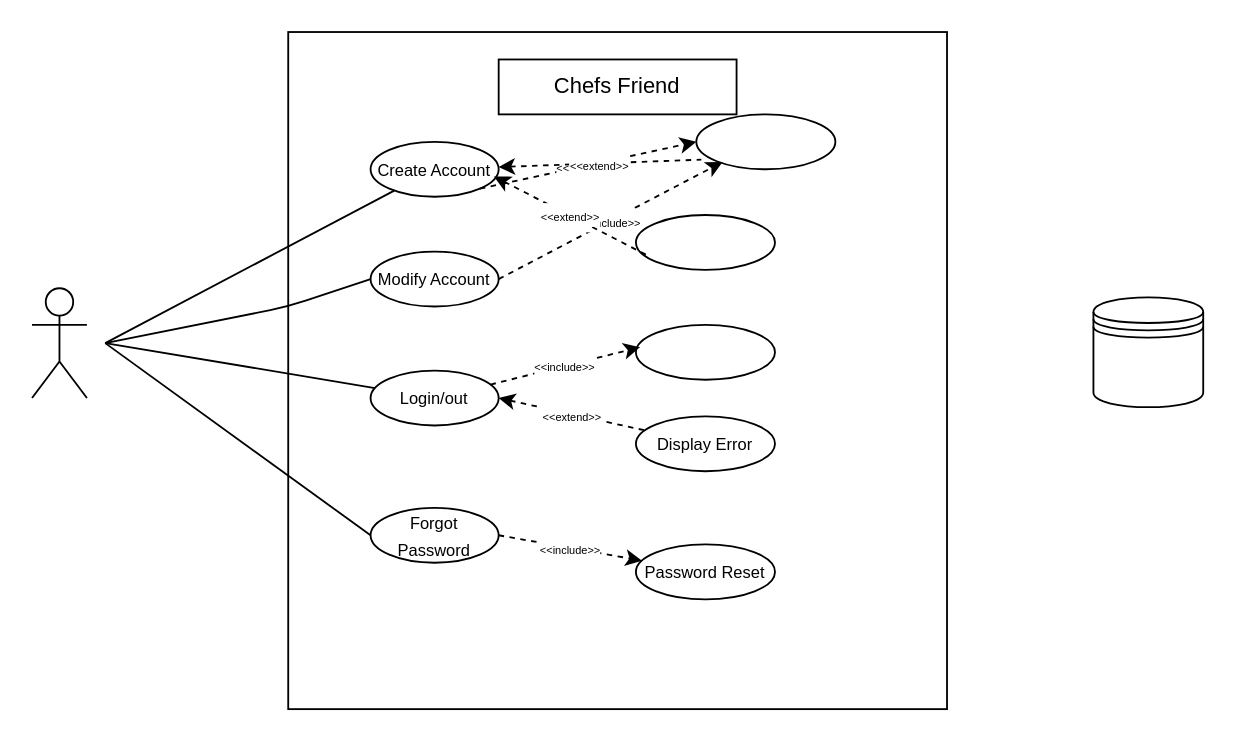
The diagram is 1235 pixels wide and 741 high, and some of its shapes have lost their labels. The shapes that lost their labels are listed below. From the top down, each one's box as (x1, y1, x2, y2) in pixels, then its label:
(694, 113, 835, 169): Verify Data Consistency
(634, 213, 775, 270): Prompt Proper Data Input
(30, 286, 87, 398): Actor
(634, 323, 775, 380): Verify Information
